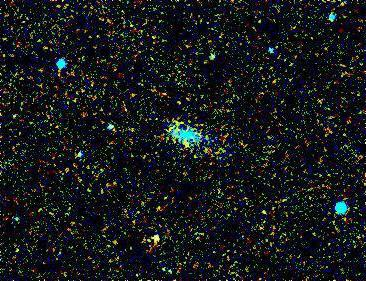star: (172, 131, 202, 161)
